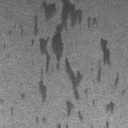red iron: (8, 0, 98, 128), (98, 38, 110, 82), (114, 73, 126, 94), (106, 101, 114, 128), (35, 117, 46, 122), (10, 107, 14, 116), (0, 98, 3, 104), (21, 94, 24, 99)
